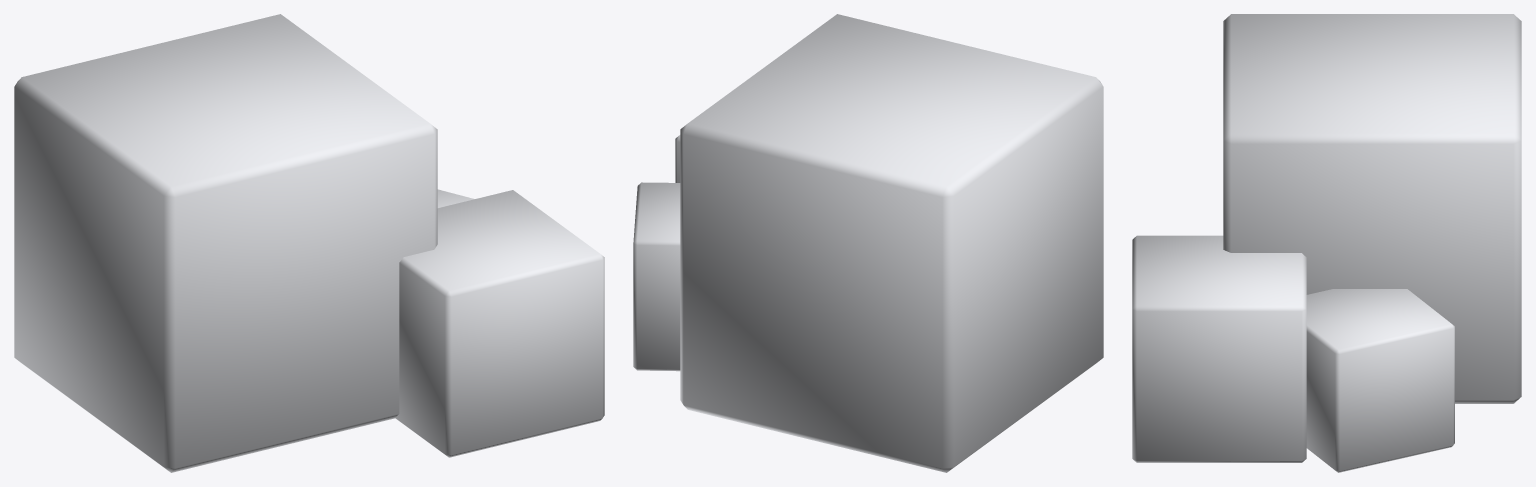
The model's file is bush-58_col.fbx.
3 views of the same model, side by side, from view 1: azimuth 30°, elevation 25°; view 2: azimuth 150°, elevation 25°; view 3: azimuth 270°, elevation 25° (orthographic). The views are drawn at different scales.
Parts seen in each view (by area): view 1: bush-58.col; view 2: bush-58.col; view 3: bush-58.col.
Part boxes in pixels (x1=…): bush-58.col: x1=14, y1=14, x2=604, y2=472; bush-58.col: x1=633, y1=14, x2=1103, y2=472; bush-58.col: x1=1132, y1=14, x2=1521, y2=472.
Bounding box in the file's own units: 0.2823 × 0.1925 × 0.2467.
Materials: 1 (1 with a texture image).
